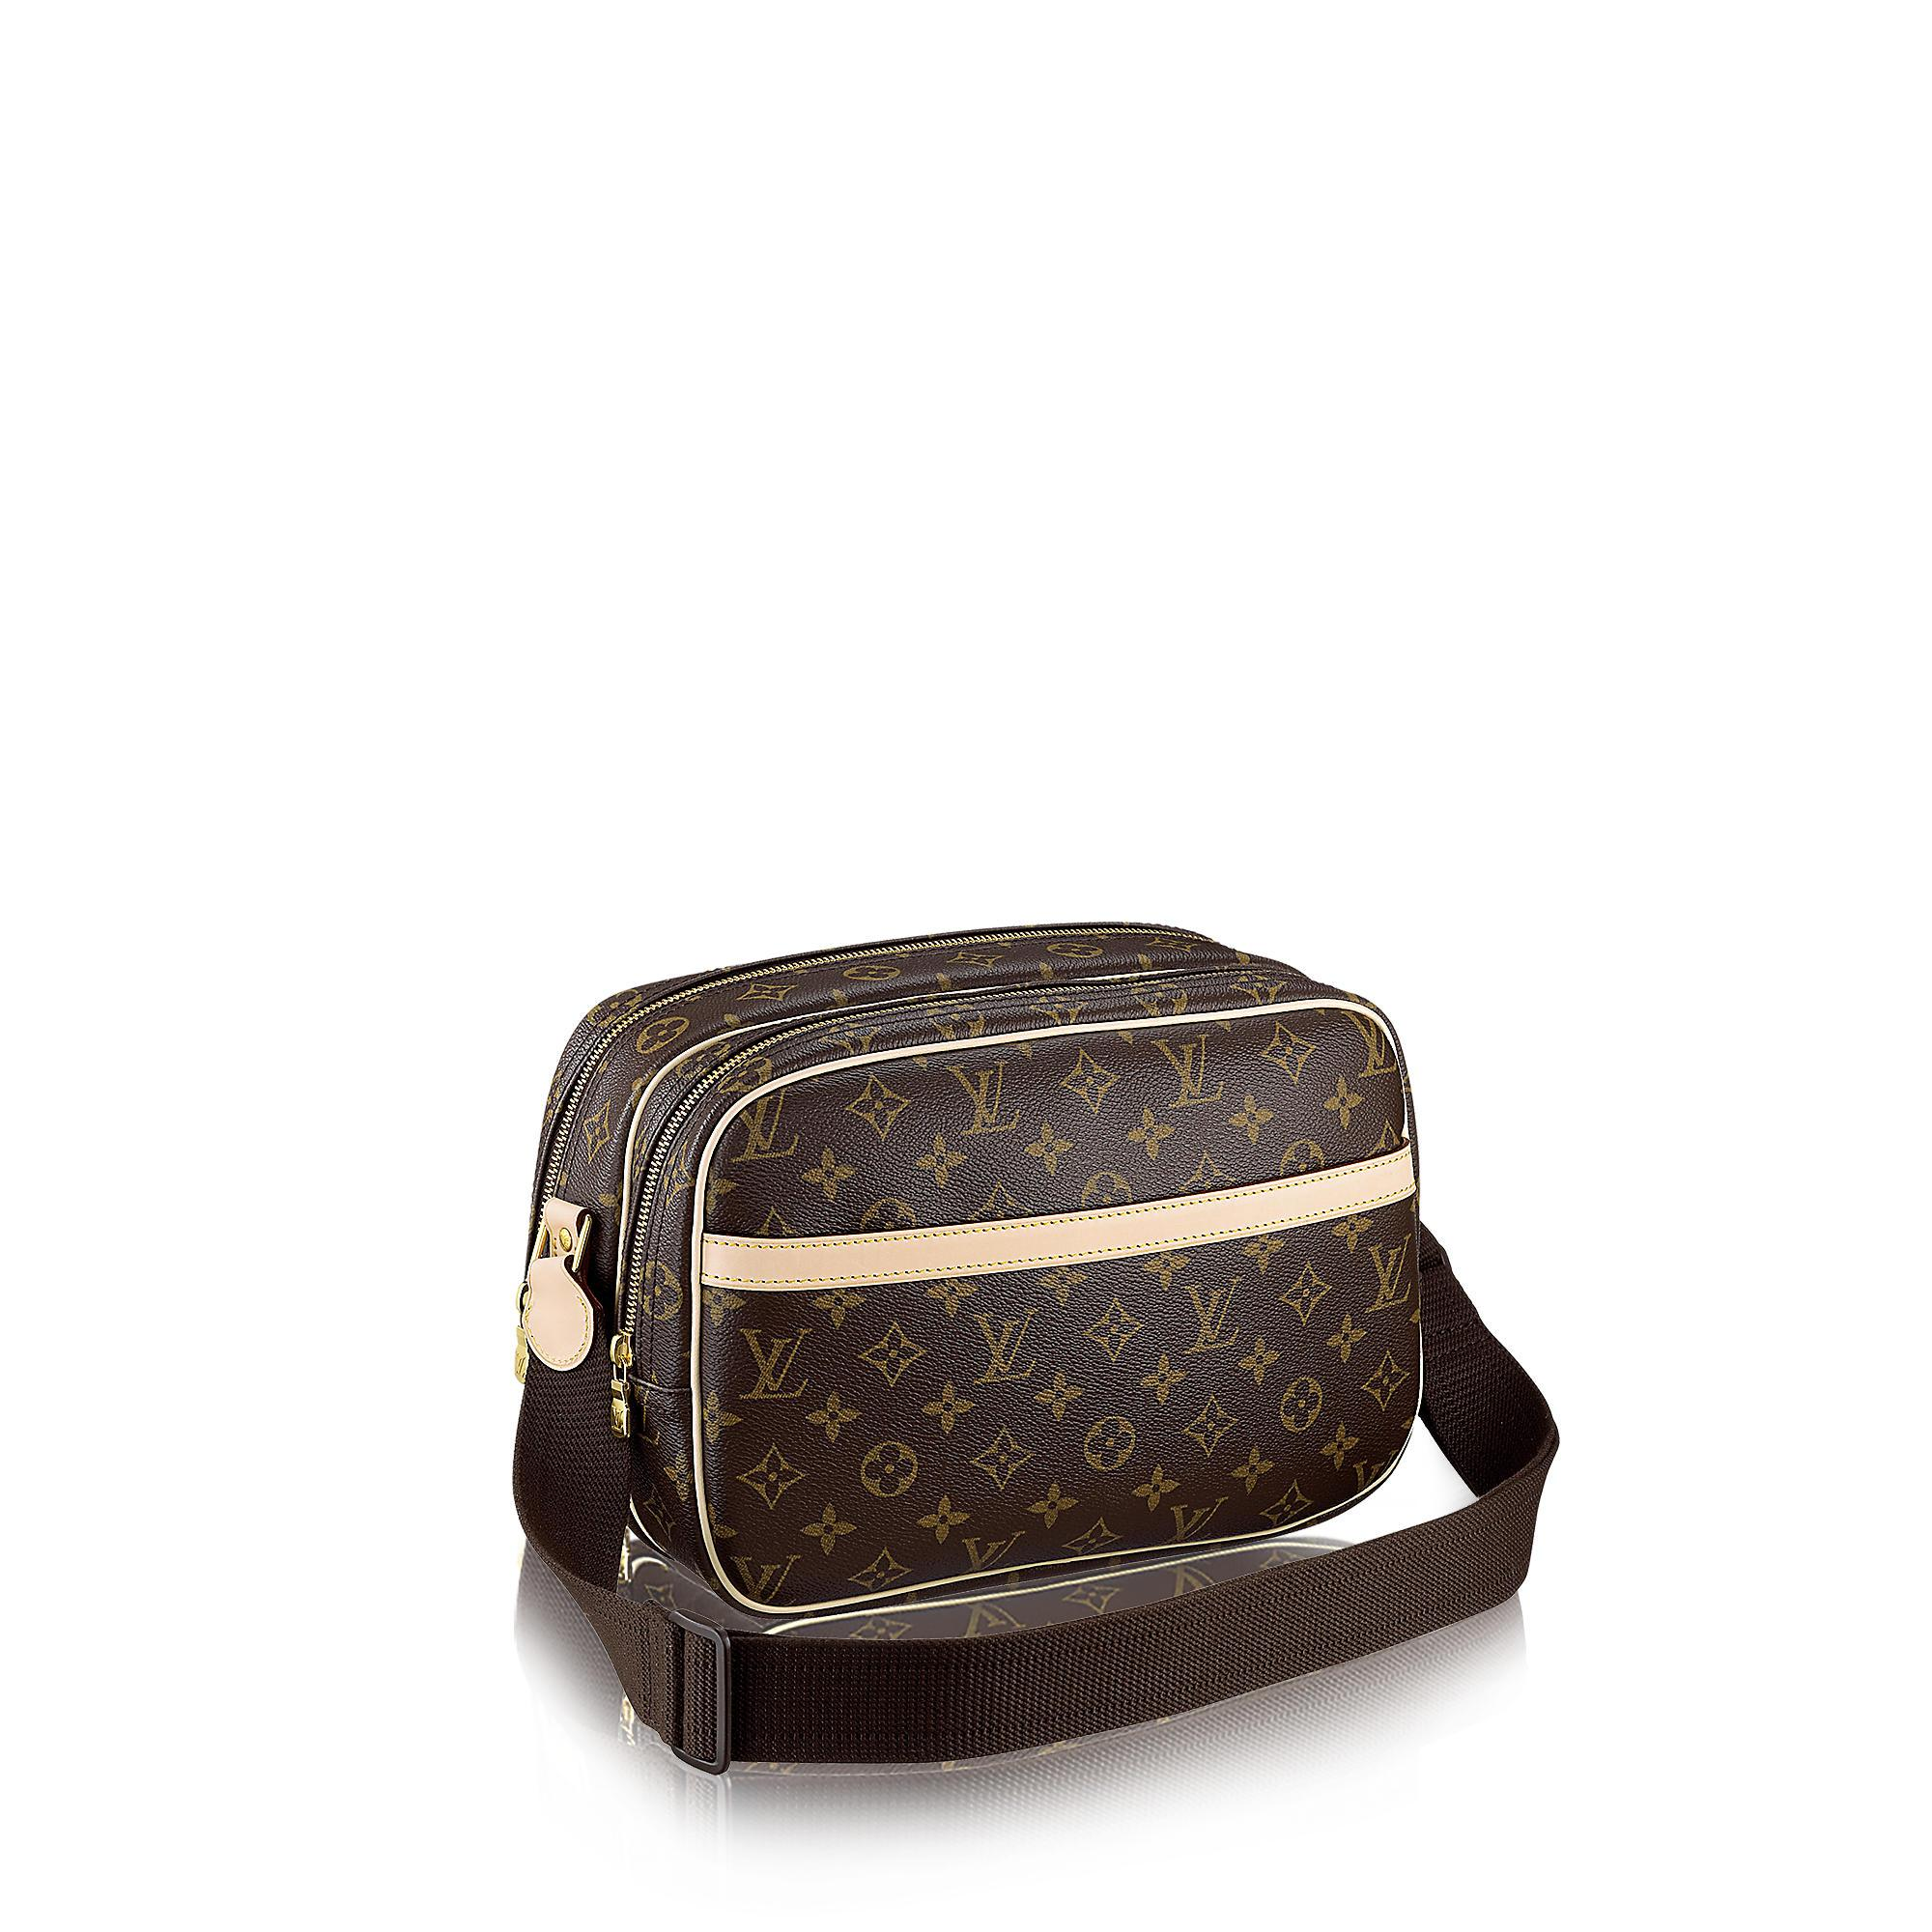LOUIS-VUITTON: (720, 1086, 801, 1169), (968, 1304, 1044, 1392), (731, 1325, 814, 1405), (950, 1058, 1021, 1139), (1150, 1031, 1223, 1109), (1182, 1276, 1246, 1361), (1359, 1231, 1415, 1316), (1341, 1010, 1398, 1079)
